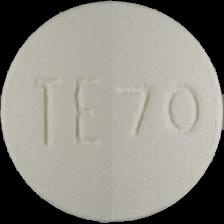0093-5770: (0, 0, 224, 224)
